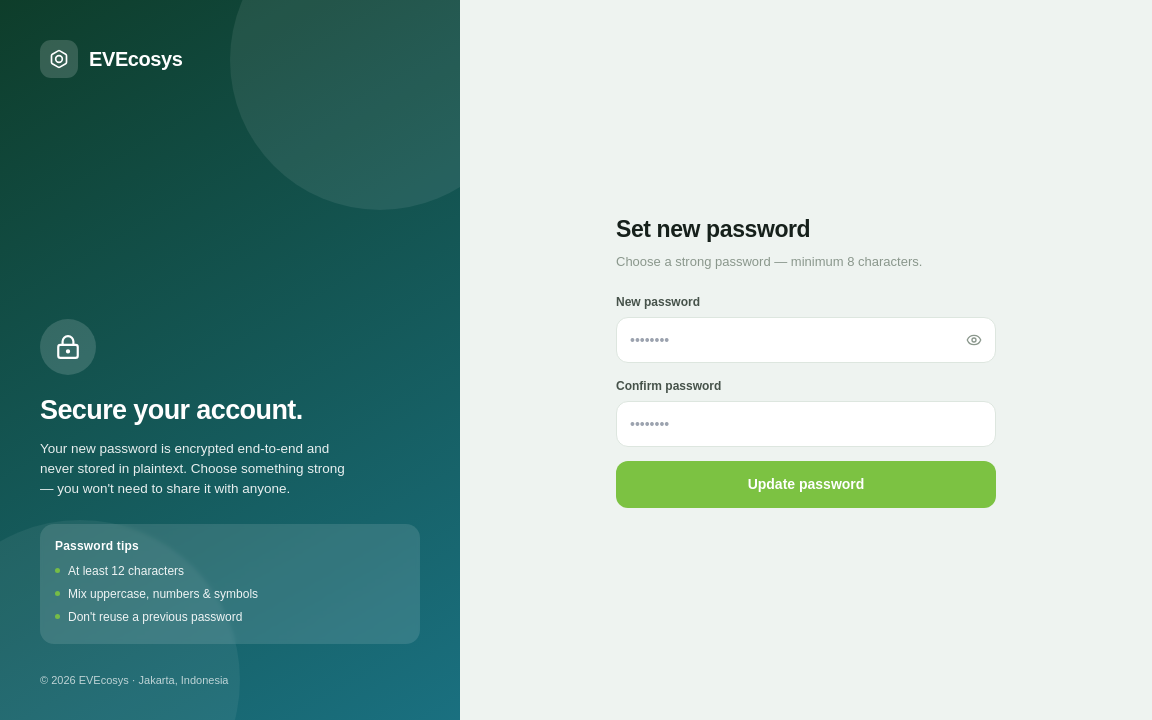
Test: Reset password integration › updates password and persists forced reset flag
Type "newpass123" into the password field with placeholder "••••••••".
click(794, 340); type("newpass123")  # box [630, 330, 957, 350]
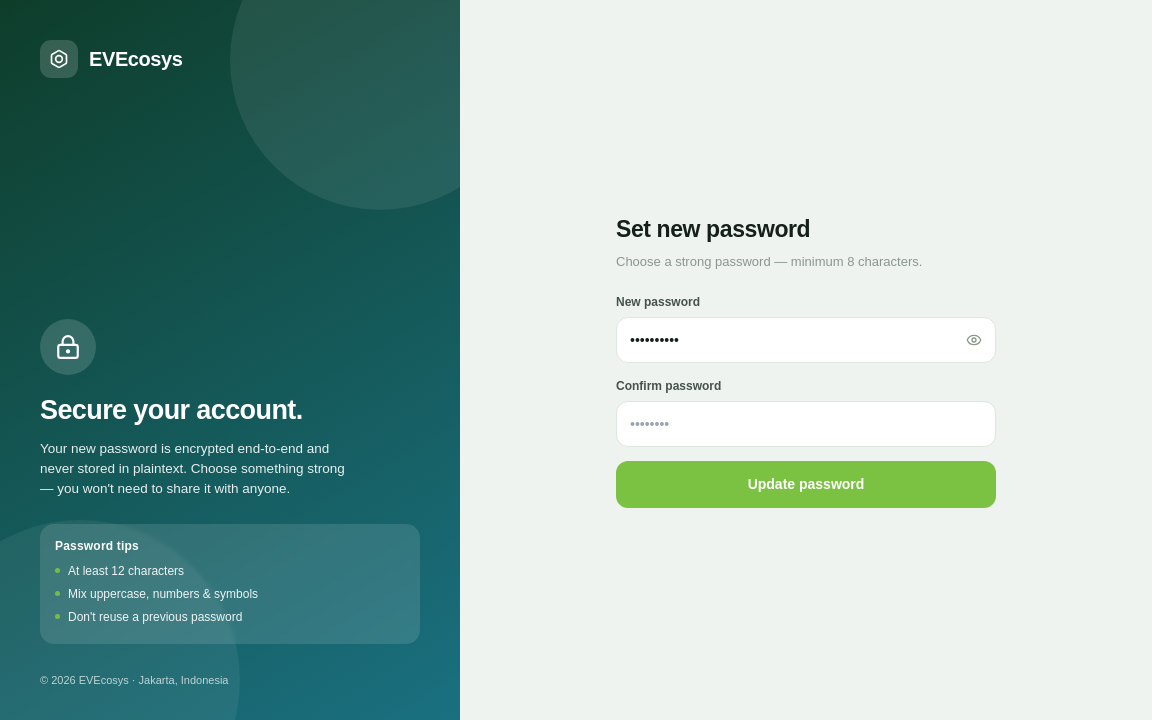
Type "newpass123" into the password field with placeholder "••••••••".
click(806, 424); type("newpass123")  # box [630, 414, 982, 434]
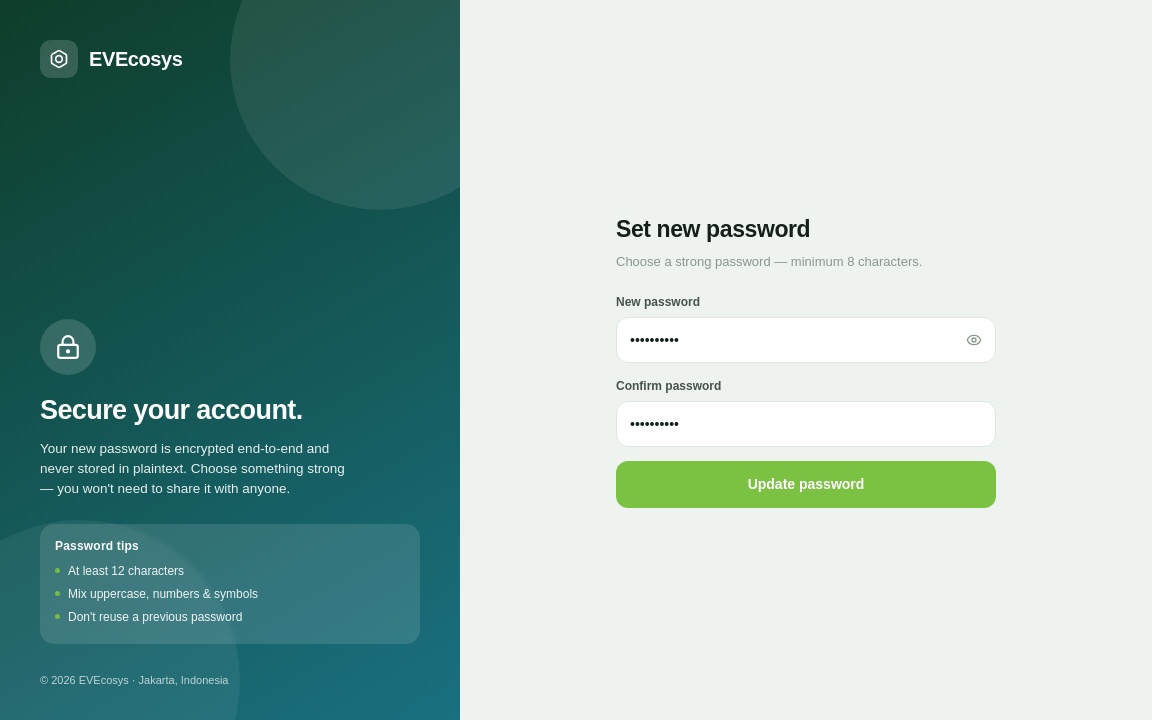
Click the button "Update password".
click(806, 484)  # box [616, 461, 996, 508]
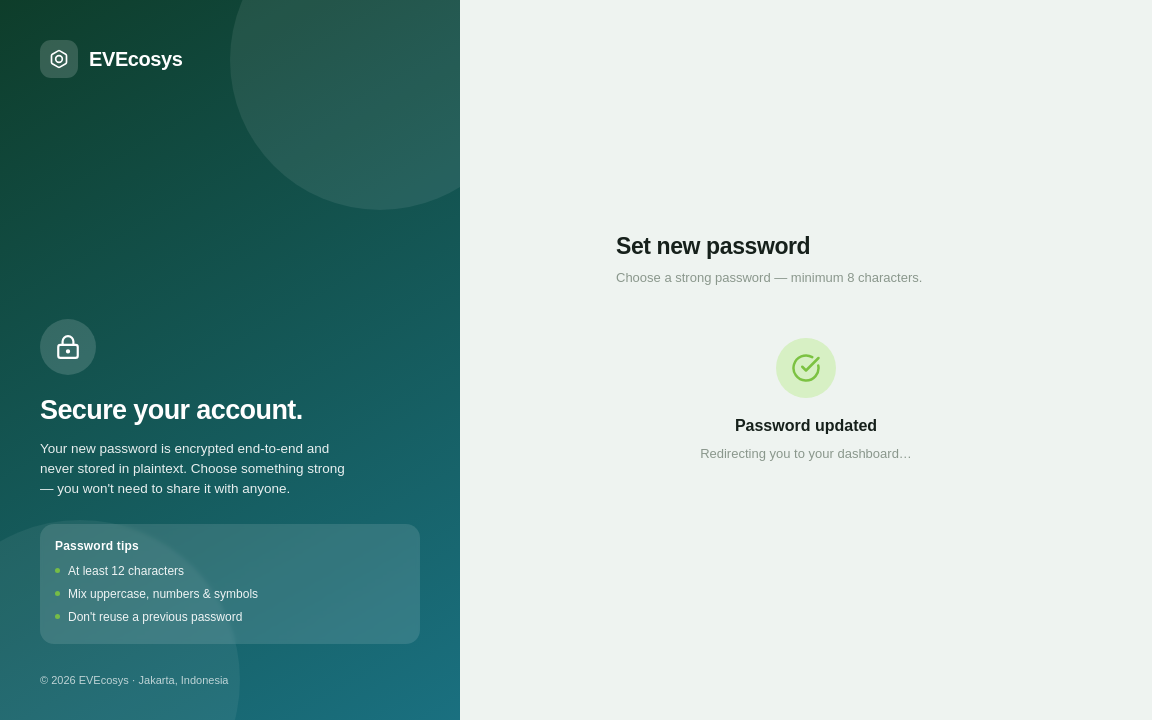
Check: the text "Password updated" is shown, box [735, 417, 877, 434]
